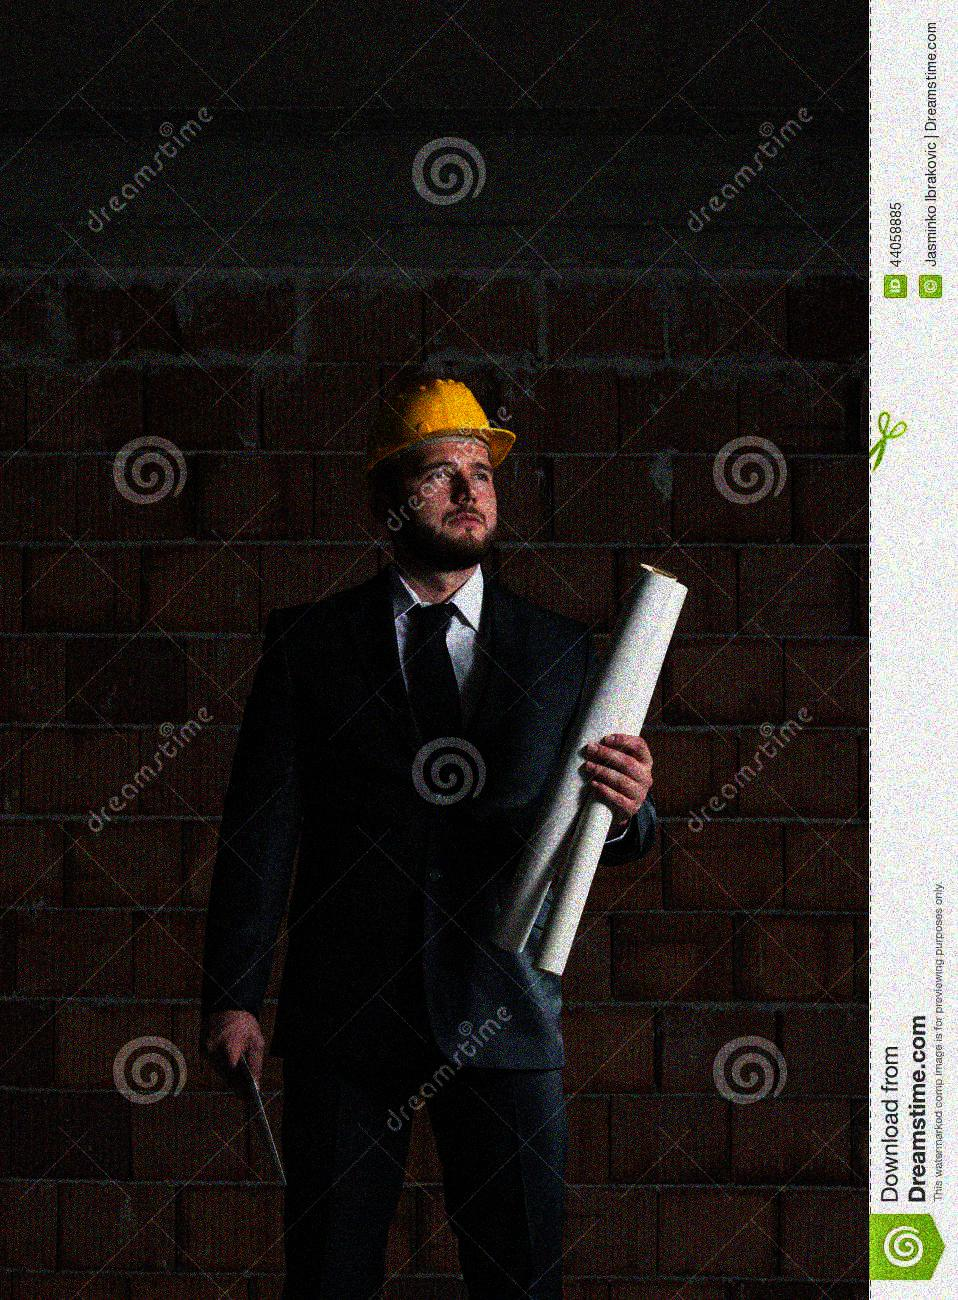helmet: (361, 376, 524, 569)
